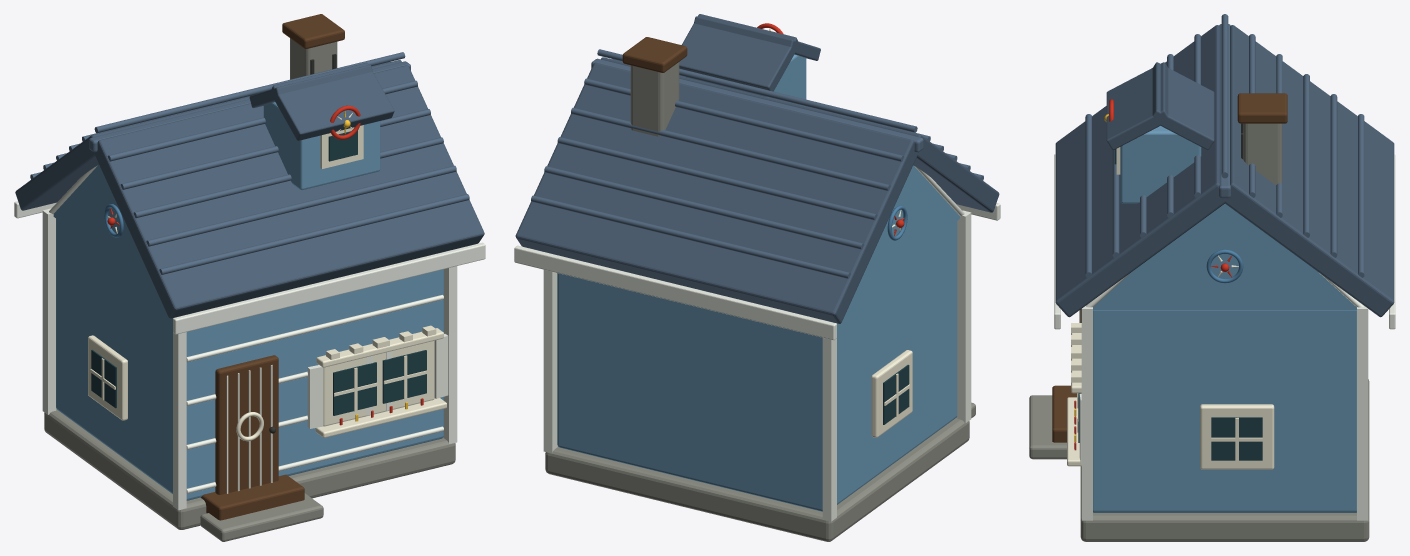
File: house_blue.glb
3 renders of one model, left to right at view 1: azimuth 30°, elevation 25°; view 2: azimuth 150°, elevation 25°; view 3: azimuth 270°, elevation 25°, orthographic. The views are drawn at different scales.
Visible parts, largest first — view 1: house_blue; view 2: house_blue; view 3: house_blue.
Part boxes in pixels (<box>): house_blue: <box>14,14,485,541</box>; house_blue: <box>514,14,1000,541</box>; house_blue: <box>1029,14,1395,541</box>.
Size of the model in its own units: 5.75 by 6.72 by 5.43.
